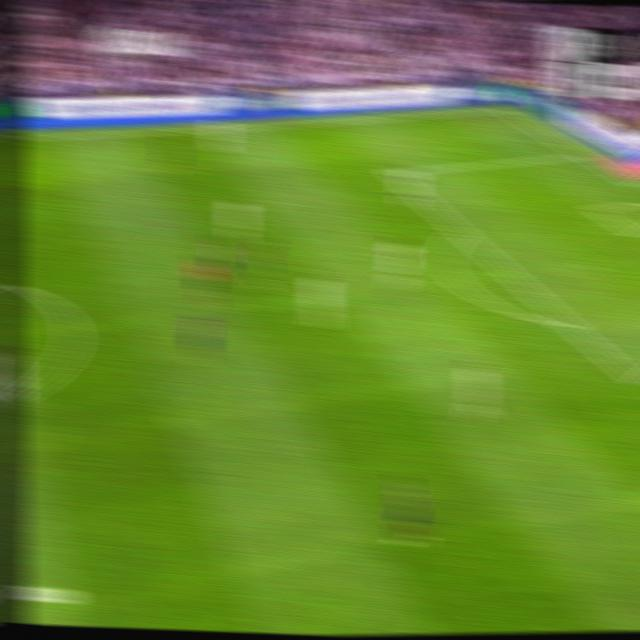bigarea_top_inner: (384, 164, 404, 180)
bigarea_top_outter: (569, 144, 592, 161)
bottom_arc_area_intersection: (556, 312, 582, 336)
corner: (491, 101, 516, 115)
smallarea_top_inner: (586, 199, 608, 217)
top_arc_area_intersection: (450, 222, 473, 241)
